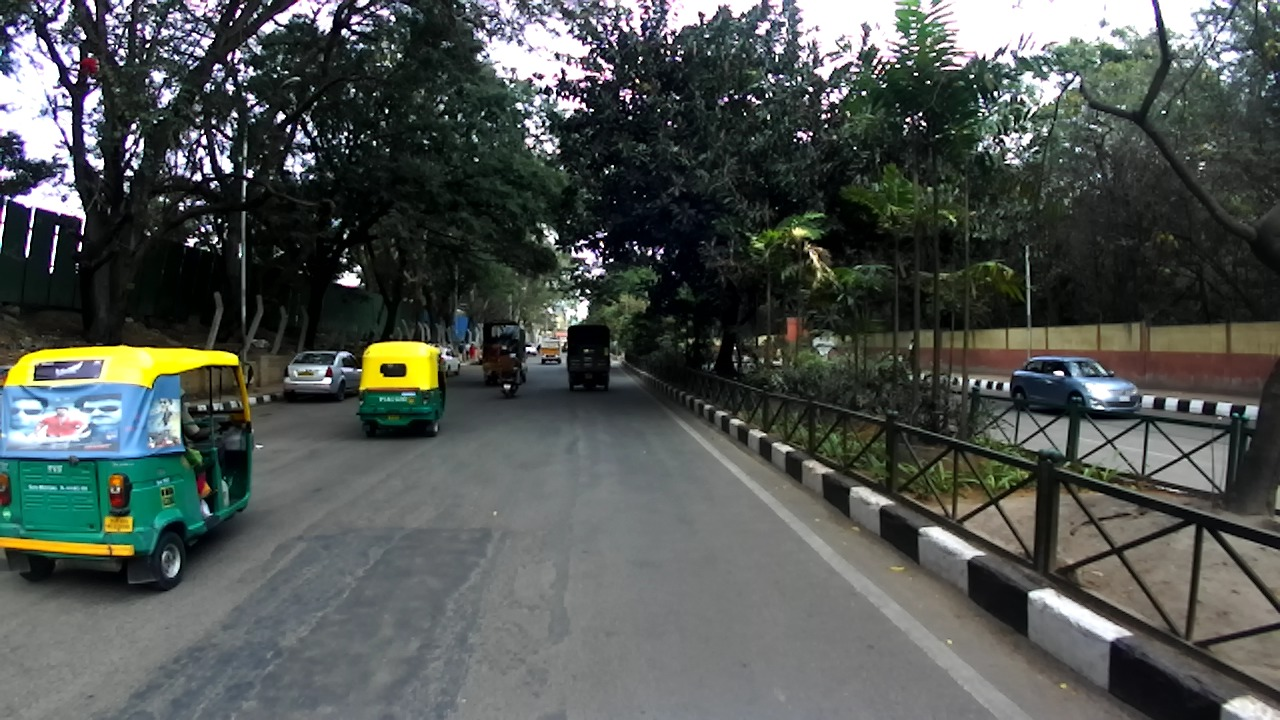autorickshaw: (1, 343, 254, 591), (355, 340, 448, 438), (567, 323, 611, 393)
car: (1010, 356, 1142, 419), (282, 349, 365, 402), (431, 346, 461, 377), (726, 343, 753, 365), (477, 343, 487, 365), (524, 342, 538, 357)
motorcycle: (498, 367, 521, 397)
person: (458, 341, 466, 360), (464, 341, 471, 359), (468, 343, 476, 358), (909, 340, 913, 355), (447, 342, 453, 350), (426, 339, 432, 347), (434, 340, 439, 346)
rider: (496, 345, 520, 384), (507, 347, 523, 385)
truck: (482, 320, 528, 386), (540, 337, 562, 365)
vehicle fallback: (813, 341, 839, 360), (1, 364, 13, 396), (768, 357, 783, 366), (561, 341, 570, 353)
